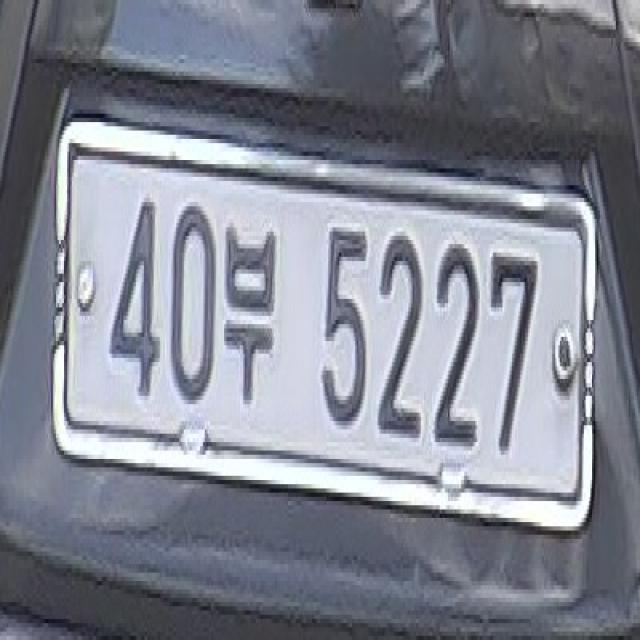0: (171, 194, 218, 404)
2: (432, 232, 478, 454), (378, 227, 422, 442)
4: (110, 189, 165, 396)
5: (320, 219, 370, 429)
7: (483, 244, 538, 455)
bu: (226, 223, 276, 413)
license_plate: (52, 118, 594, 530)
